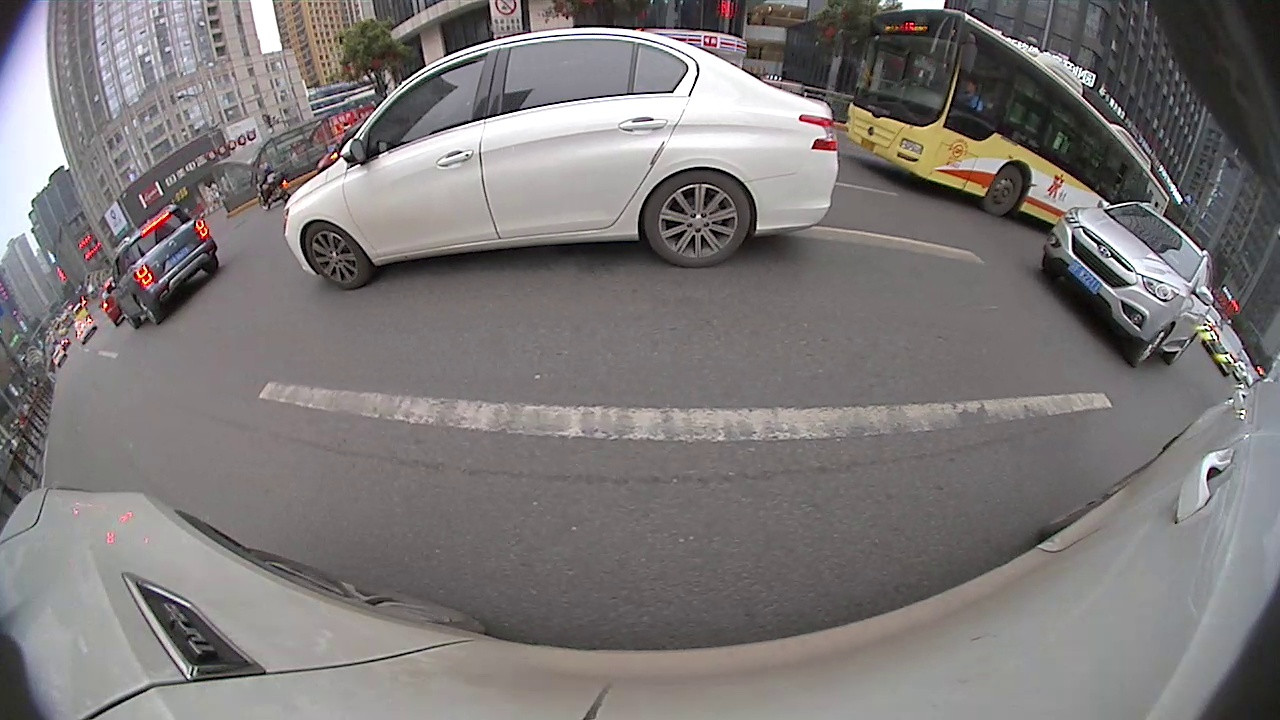bus: (844, 7, 1174, 228)
car: (279, 23, 843, 292), (1038, 200, 1216, 368), (106, 202, 223, 333)
front: (302, 217, 373, 294), (982, 166, 1025, 220), (1130, 320, 1172, 370)
rear: (643, 168, 748, 268), (134, 295, 159, 327)
